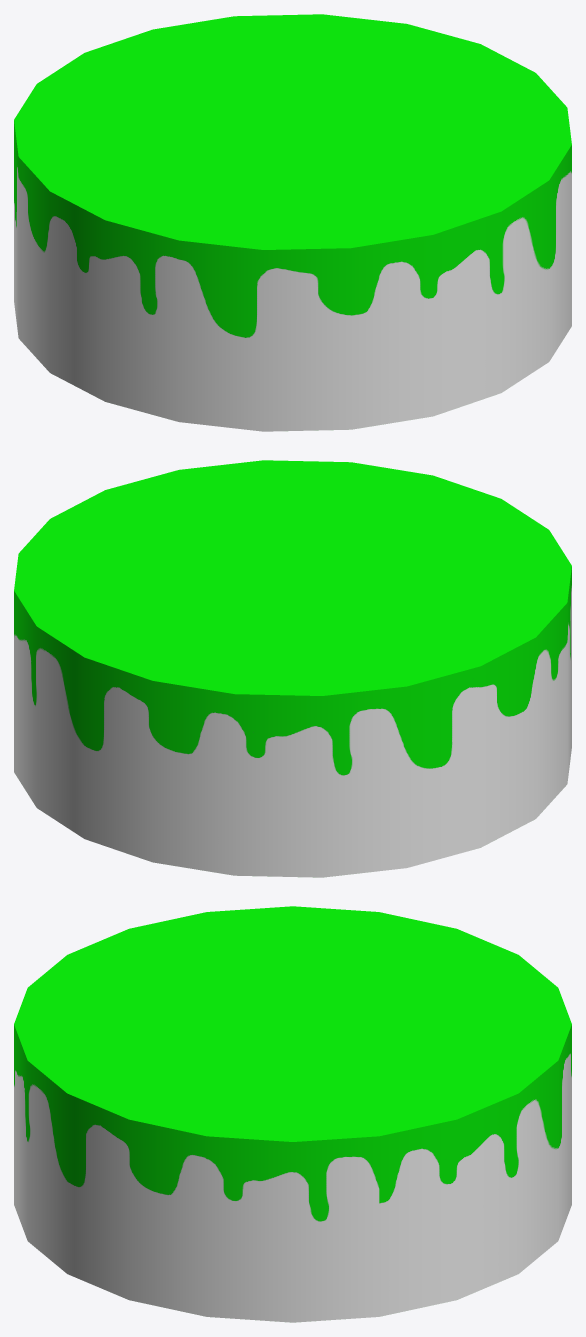
File: GreenMedium.fbx
3 views of the same model, one above another, from view 1: azimuth 30°, elevation 25°; view 2: azimuth 150°, elevation 25°; view 3: azimuth 270°, elevation 25° (orthographic).
Visible parts, largest first — view 1: GreenMedium; view 2: GreenMedium; view 3: GreenMedium.
Part boxes in pixels (x1,y1,x2,y2): GreenMedium: [14, 14, 571, 431]; GreenMedium: [14, 460, 571, 877]; GreenMedium: [14, 906, 571, 1322].
Size of the model in its own units: 700 by 250 by 700.
